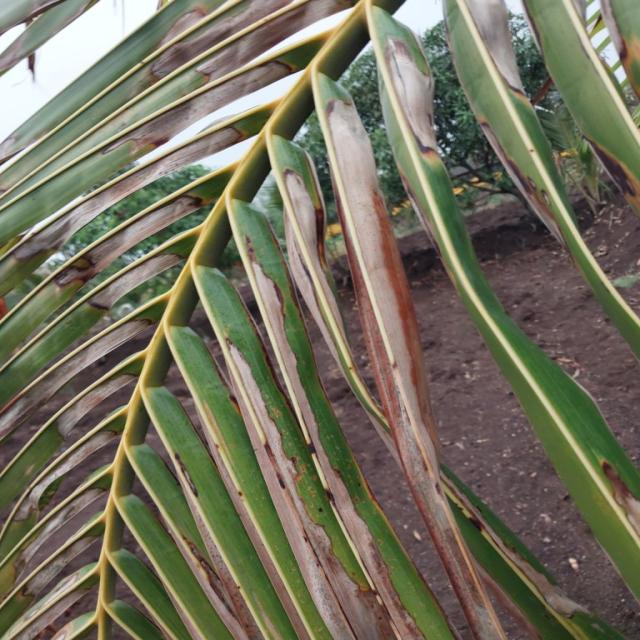gray leaf spot: (10, 4, 450, 630)
